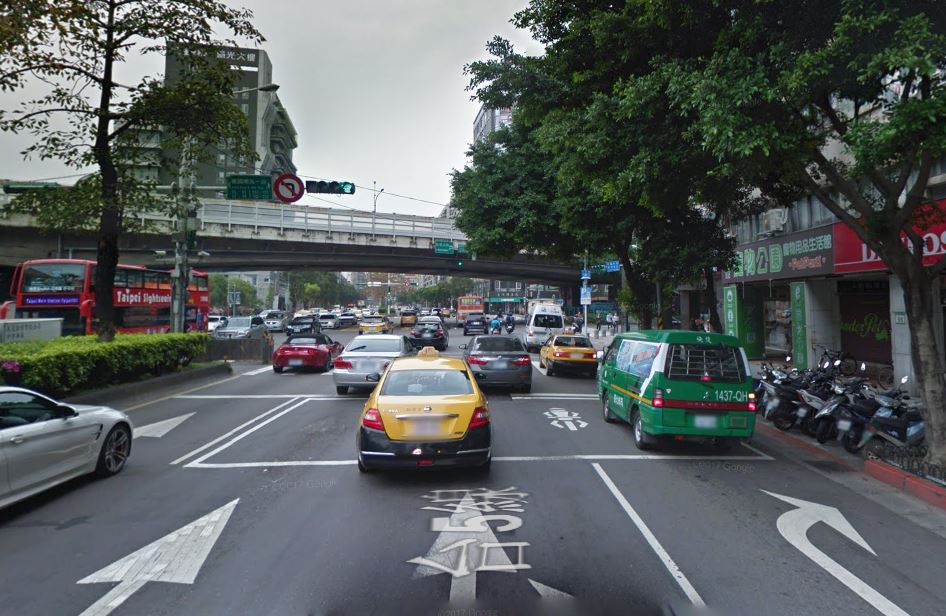No_left_turn: (274, 174, 304, 202)
Traffic_light_green: (308, 179, 355, 194)
